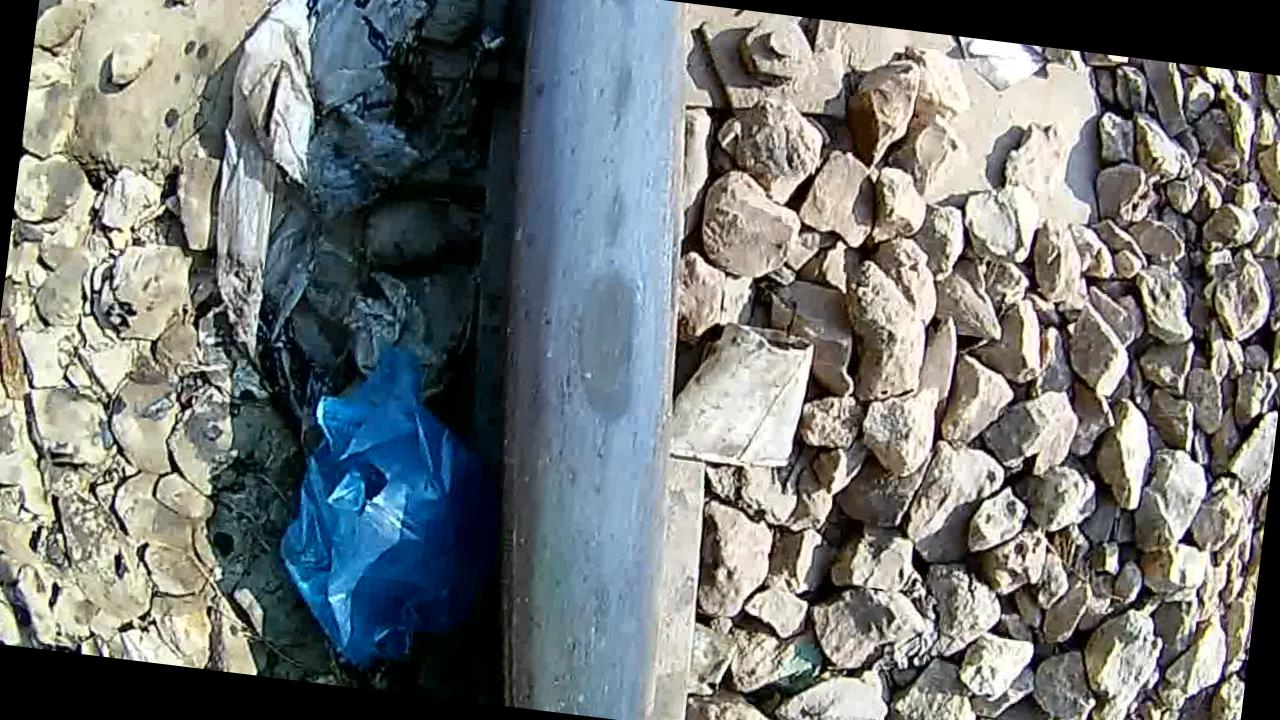bolt_missing: (480, 0, 695, 460)
